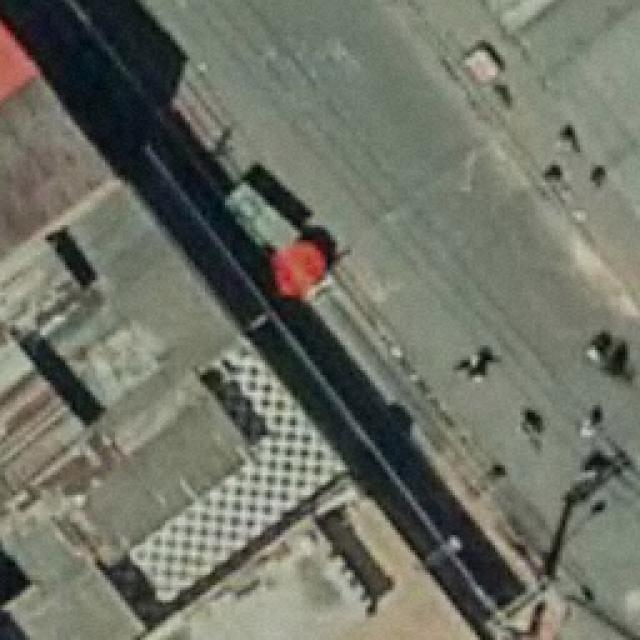vendedor_ambulante: (263, 237, 329, 300)
